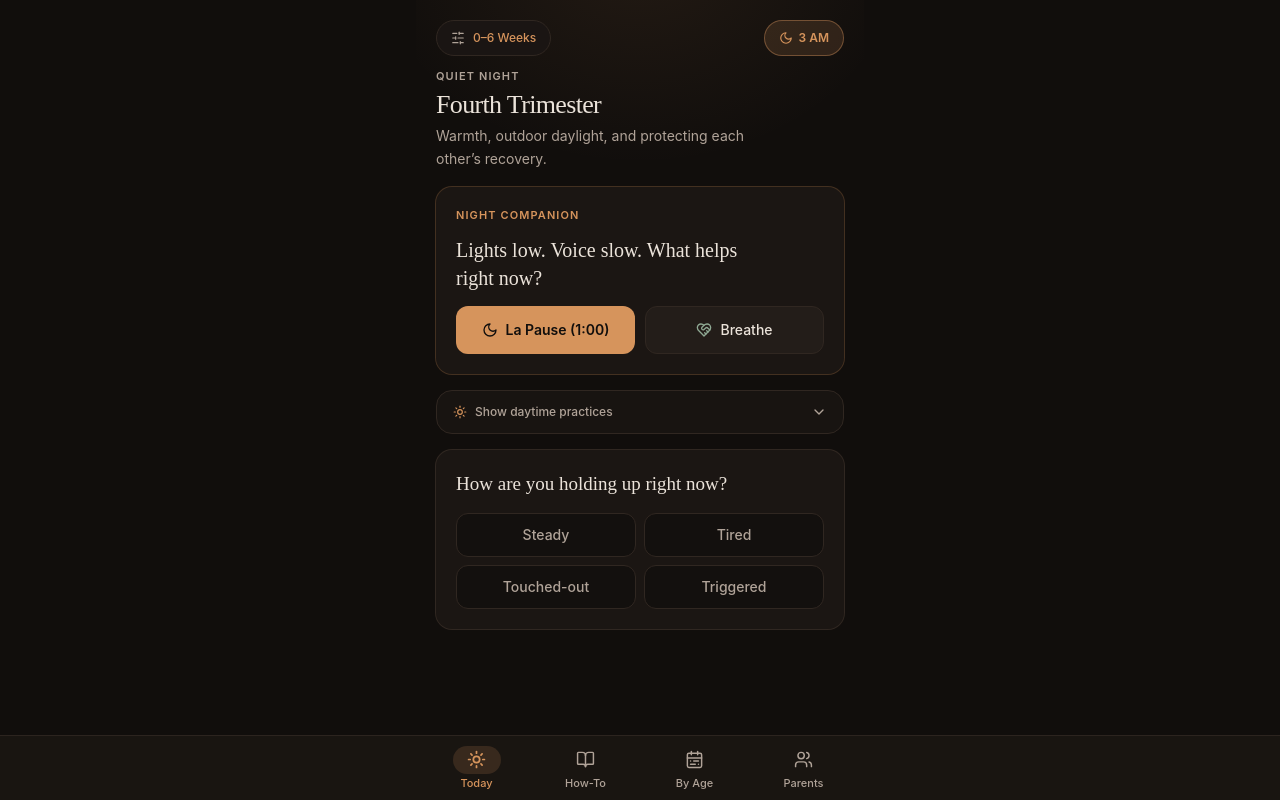
Test: Native mobile navigation (Android Back & swipe-down) › dismisses SettingsSheet on downward swipe past threshold
Click the button with aria-label "Settings and baby stage" at (494, 38), box x1=436 y1=20 x2=551 y2=56
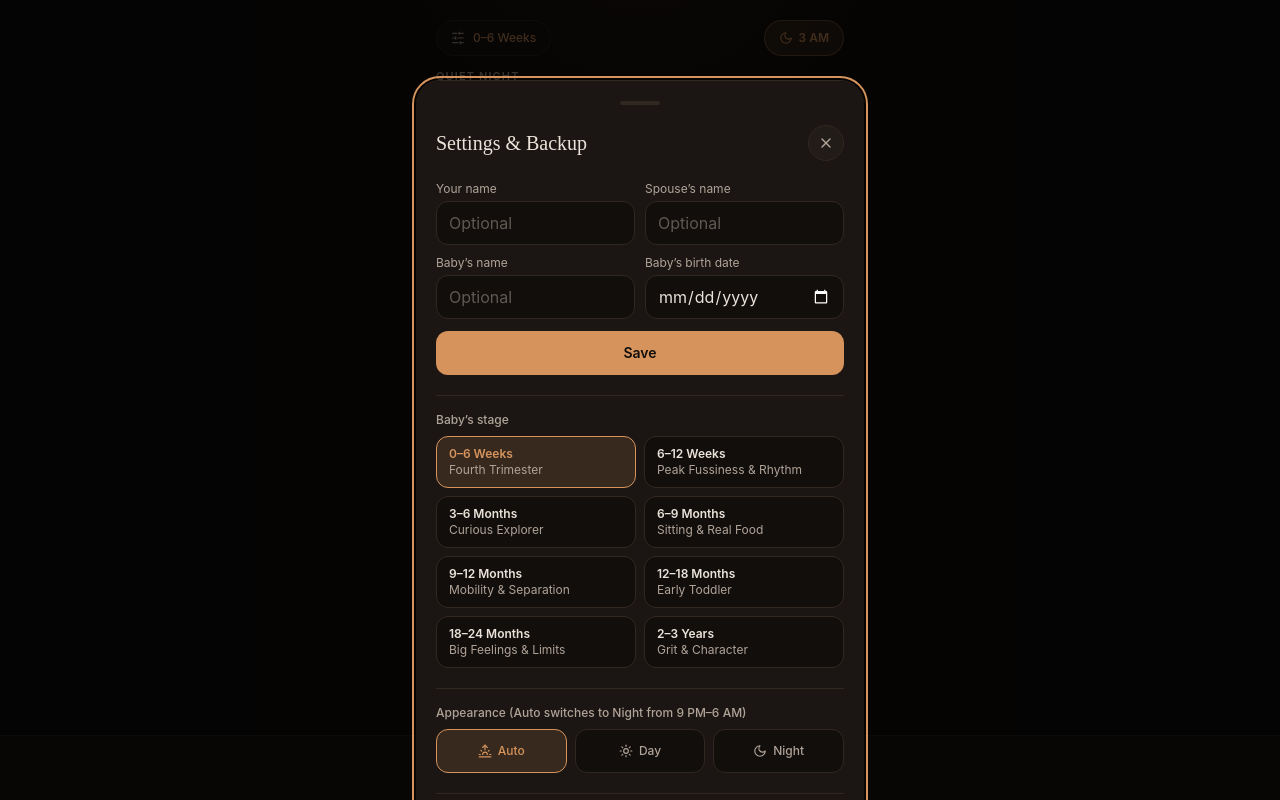
Press the mouse on the dialog "Settings & Backup" at (640, 440), box x1=416 y1=80 x2=864 y2=799
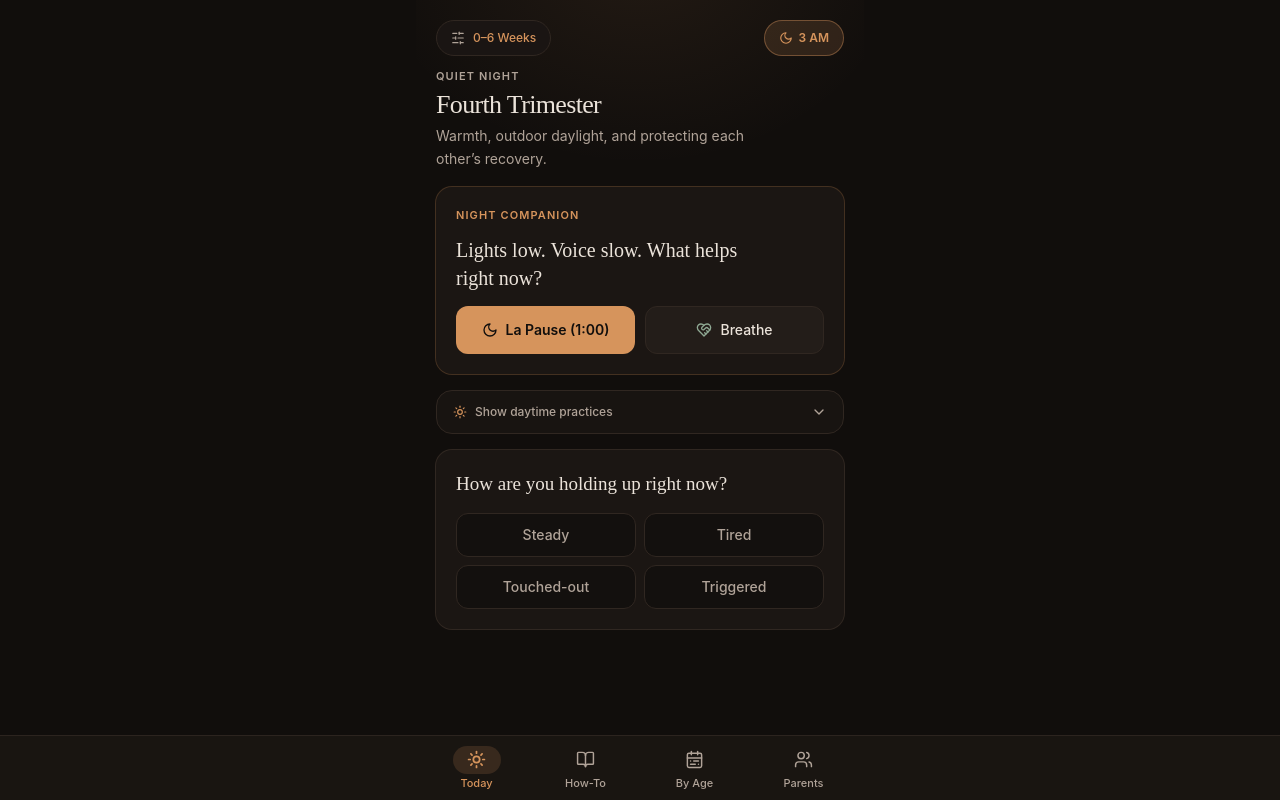
expect the heading "Settings & Backup" is gone: met
